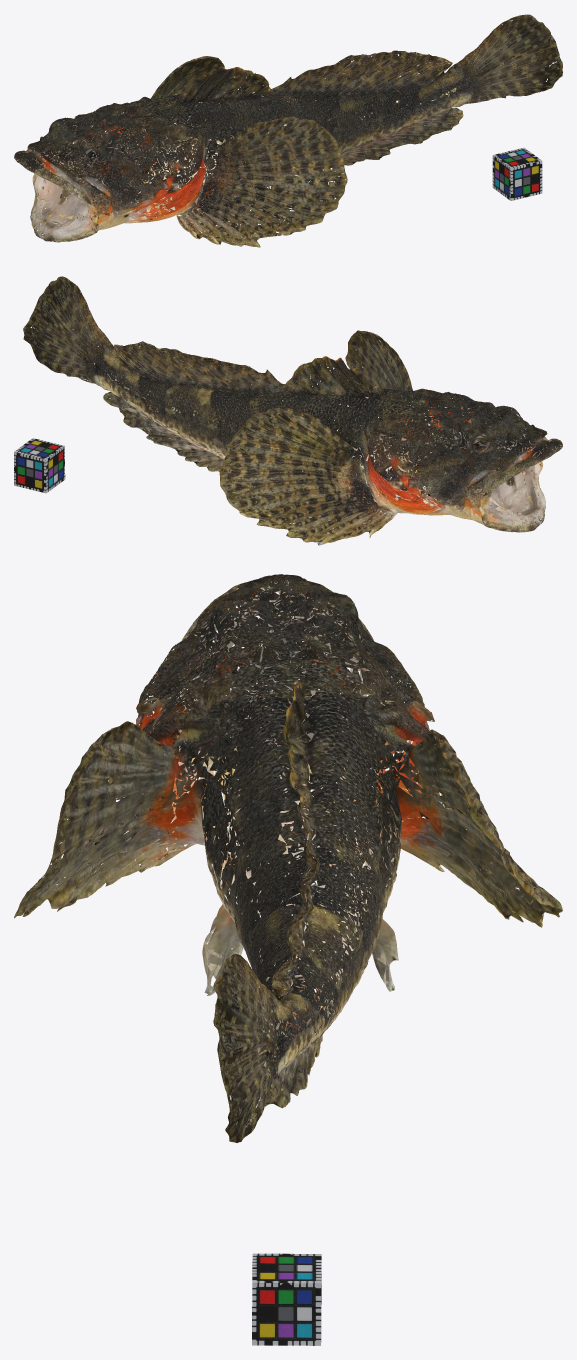
Rendered from scan_fourgill.glb.
3 views of the same model, one above another, from view 1: azimuth 30°, elevation 25°; view 2: azimuth 150°, elevation 25°; view 3: azimuth 270°, elevation 25° (orthographic). The views are drawn at different scales.
Parts seen in each view (by area): view 1: Object_6, Object_12, Object_4; view 2: Object_12, Object_6, Object_4; view 3: Object_6, Object_12, Object_4.
Part boxes in pixels (x1,y1,x2,y2): Object_6: [14, 15, 562, 246]; Object_12: [14, 14, 562, 247]; Object_4: [492, 147, 542, 200]; Object_12: [23, 276, 562, 543]; Object_6: [26, 278, 561, 545]; Object_4: [14, 438, 65, 493]; Object_6: [19, 575, 562, 1142]; Object_12: [14, 574, 562, 1142]; Object_4: [252, 1253, 321, 1345].
Bounding box in the file's own units: 10.04 × 3.53 × 4.72.
Materials: 3 (3 with a texture image).
